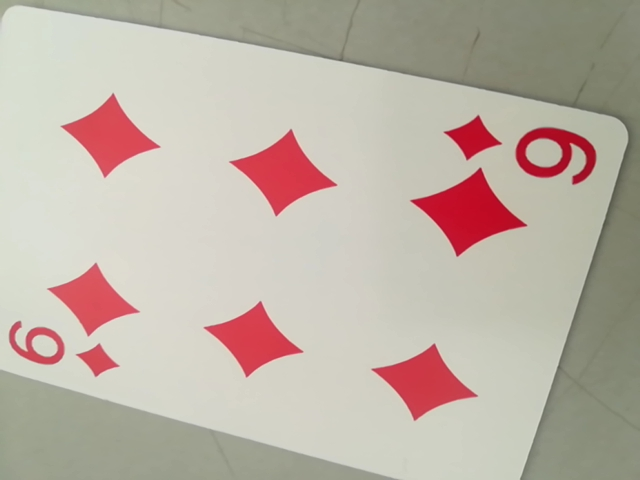fk 6: (440, 117, 598, 183), (1, 320, 127, 382)
